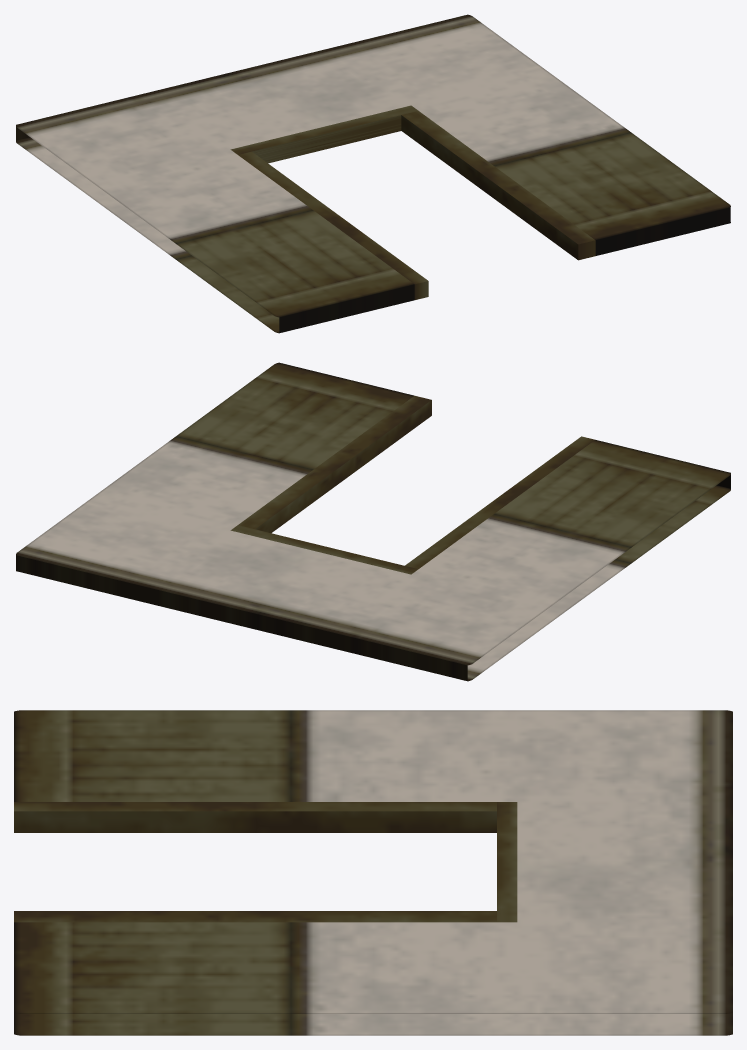
File: SM_EC_House_Wall_DoorWay_3x3_1.fbx
3 views of the same model, one above another, from view 1: azimuth 30°, elevation 25°; view 2: azimuth 150°, elevation 25°; view 3: azimuth 270°, elevation 25° (orthographic). The views are drawn at different scales.
Parts seen in each view (by area): view 1: SM_EC_House_Wall_DoorWay_3x3_1; view 2: SM_EC_House_Wall_DoorWay_3x3_1; view 3: SM_EC_House_Wall_DoorWay_3x3_1.
Part boxes in pixels (x1,y1,x2,y2): SM_EC_House_Wall_DoorWay_3x3_1: (16,14,730,333); SM_EC_House_Wall_DoorWay_3x3_1: (16,362,730,681); SM_EC_House_Wall_DoorWay_3x3_1: (14,710,732,1035).
Size of the model in its own units: 3 by 3 by 0.1.
